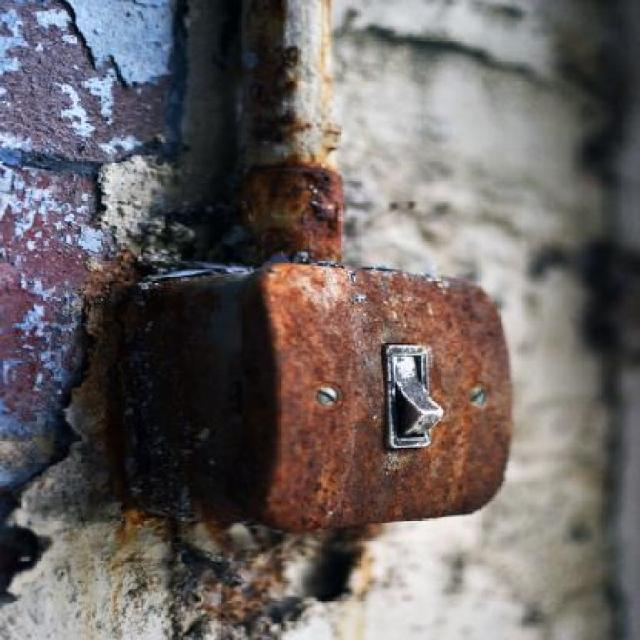corrosion: (126, 254, 516, 520)
